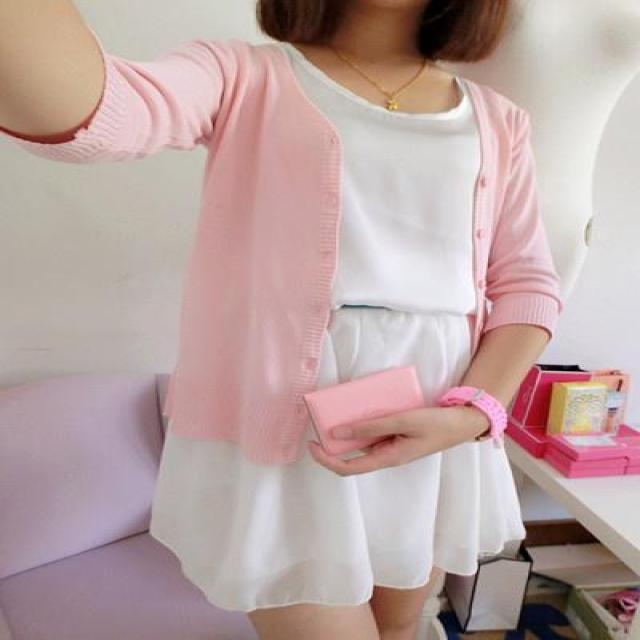long-sleeve-outwear: (107, 32, 553, 595)
